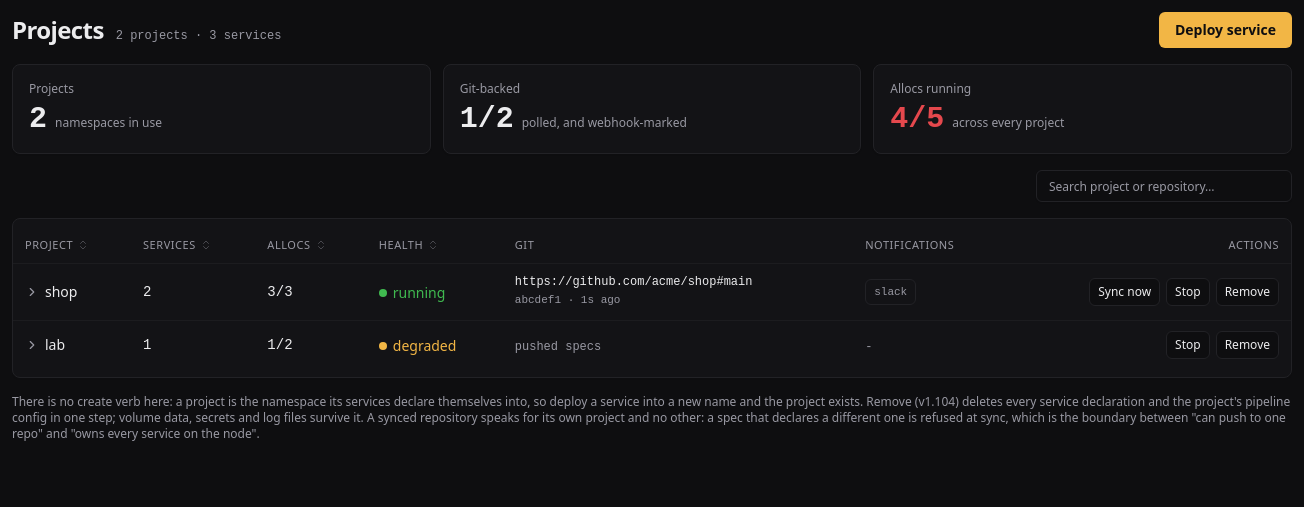
Projects › expands a project to the services declared in it
Expected: the text "shop" is shown, left=45, top=282, right=78, bottom=302
Click the button "shop".
click(51, 292)  # box left=25, top=282, right=78, bottom=302
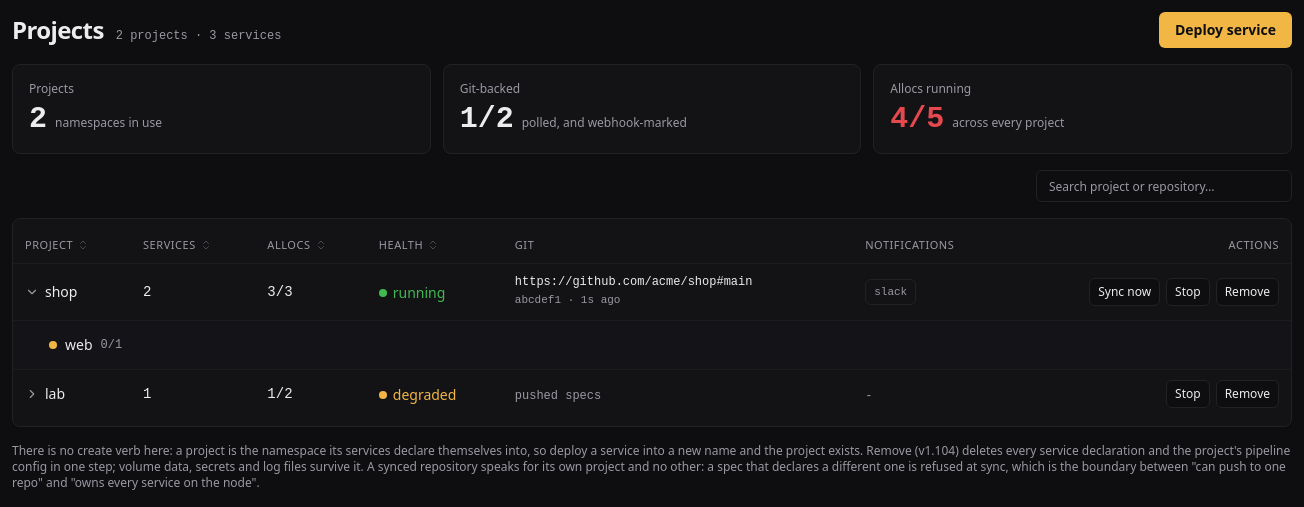
Expected: the text "web" is shown, left=65, top=335, right=92, bottom=355
